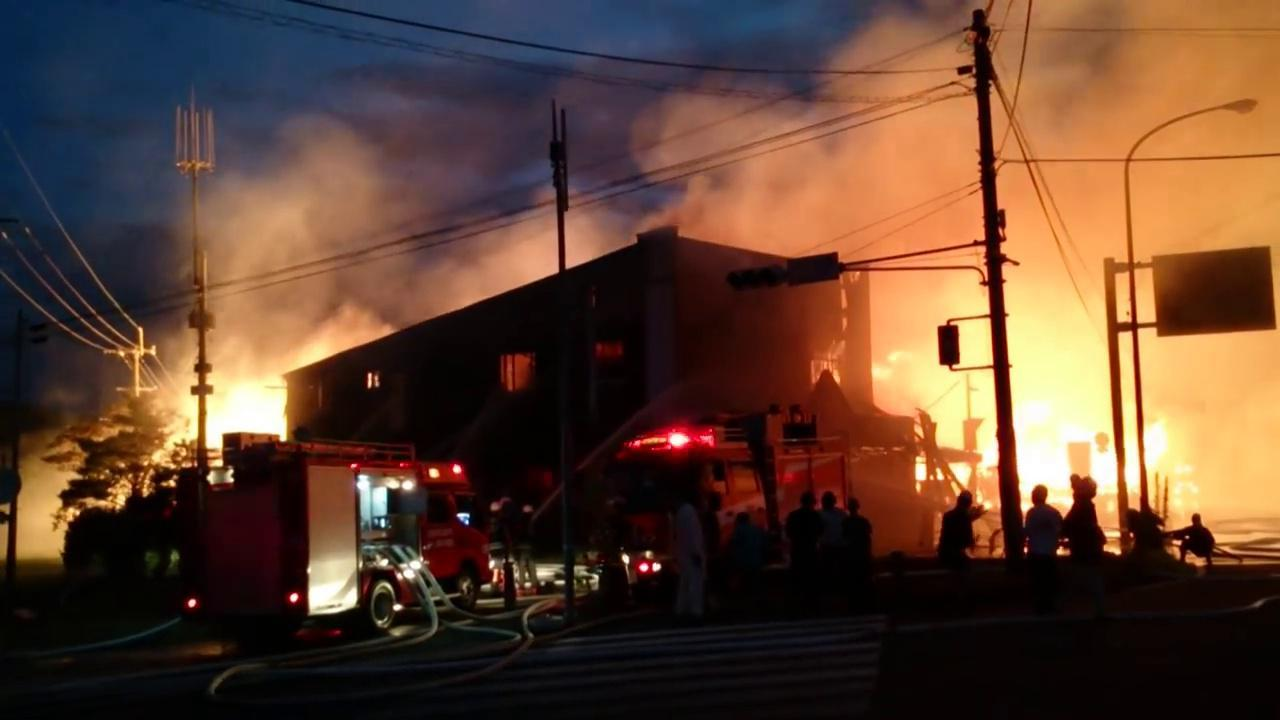Fire: (49, 9, 1276, 483), (1015, 397, 1197, 502), (187, 380, 289, 449)
